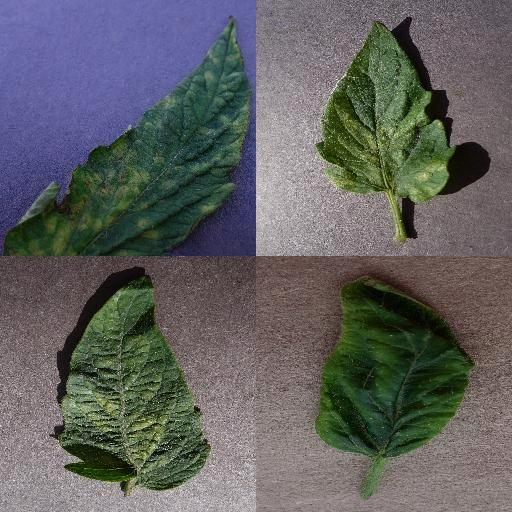Leaf Mold: (2, 12, 250, 256)
Spider Mites: (60, 277, 210, 491), (316, 20, 456, 202)
Yellow Leaf Curl Virus: (316, 273, 476, 459)
